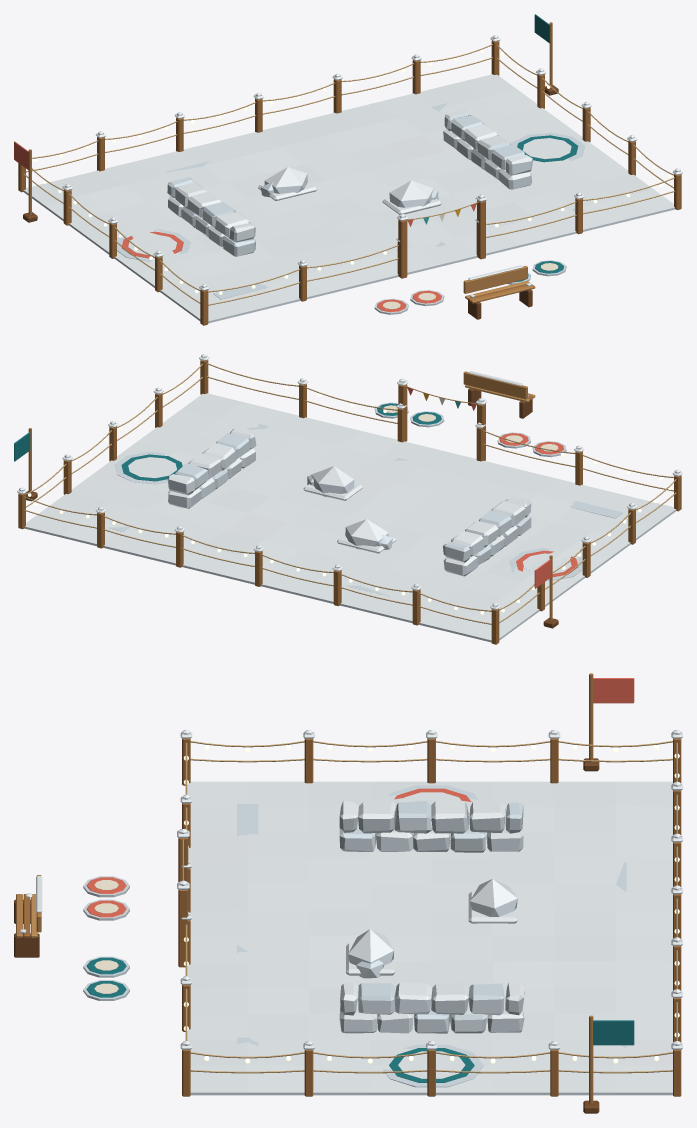
File: snowball_arena_blockout.glb
The picture shows the model from 3 angles, top to bottom: view 1: azimuth 30°, elevation 25°; view 2: azimuth 150°, elevation 25°; view 3: azimuth 270°, elevation 25°; orthographic projection. The views are drawn at different scales.
Parts seen in each view (by area): view 1: snowball_arena_blockout; view 2: snowball_arena_blockout; view 3: snowball_arena_blockout.
Part boxes in pixels (x1,y1,x2,y2): snowball_arena_blockout: [14, 14, 682, 325]; snowball_arena_blockout: [14, 354, 682, 644]; snowball_arena_blockout: [14, 673, 682, 1113].
Bounding box in the file's own units: 13.46 × 2.15 × 10.91.
